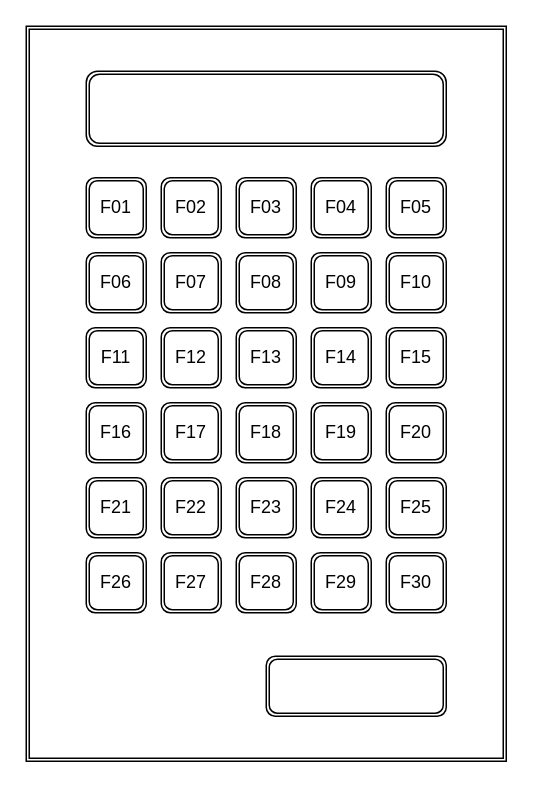
Image size: 533x788. Some labels were removed from this diagram. The shapes that lost their labels are listed below. From the top down, each one's box as (x1, y1, x2, y2) in pixels, then its label:
(85, 70, 446, 146): LOGOTIPO
(265, 655, 446, 716): SAIR
